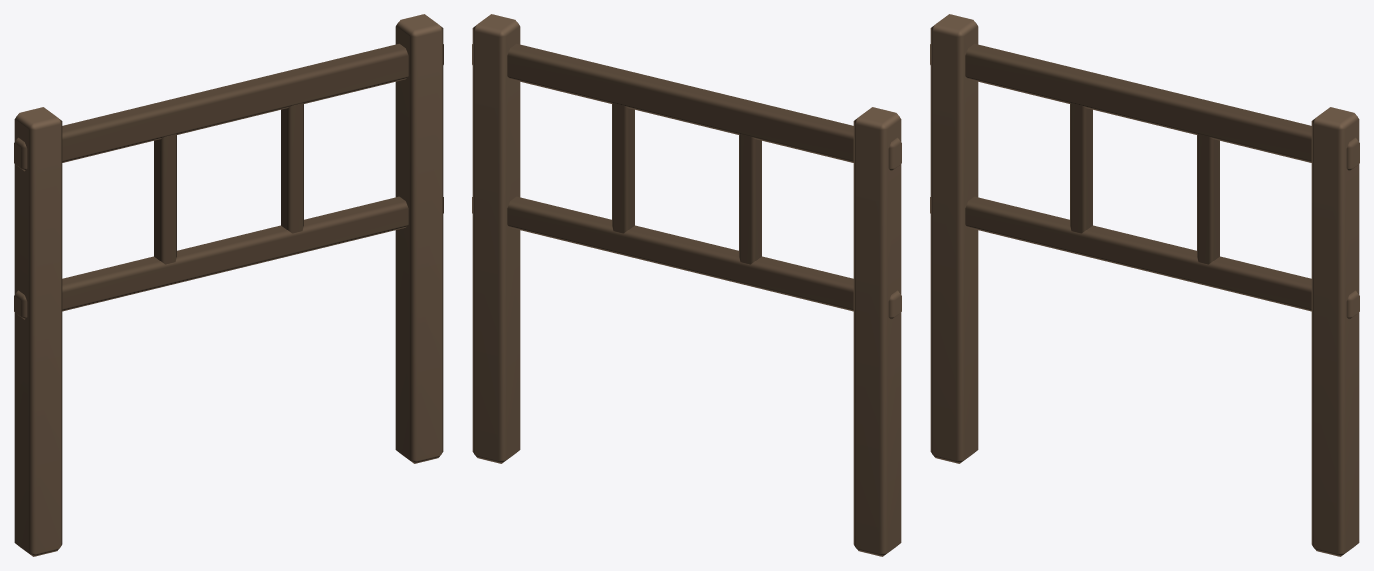
File: oak-rail.glb
3 views of the same model, side by side, from view 1: azimuth 30°, elevation 25°; view 2: azimuth 150°, elevation 25°; view 3: azimuth 330°, elevation 25° (orthographic).
Visible parts, largest first — view 1: body; view 2: body; view 3: body.
Boxes of the visible parts, box(x1,y1,x2,y2) form: body: box(14, 14, 443, 556); body: box(472, 14, 901, 556); body: box(930, 14, 1359, 556).
Size of the model in its own units: 1 by 0.98 by 0.08.
